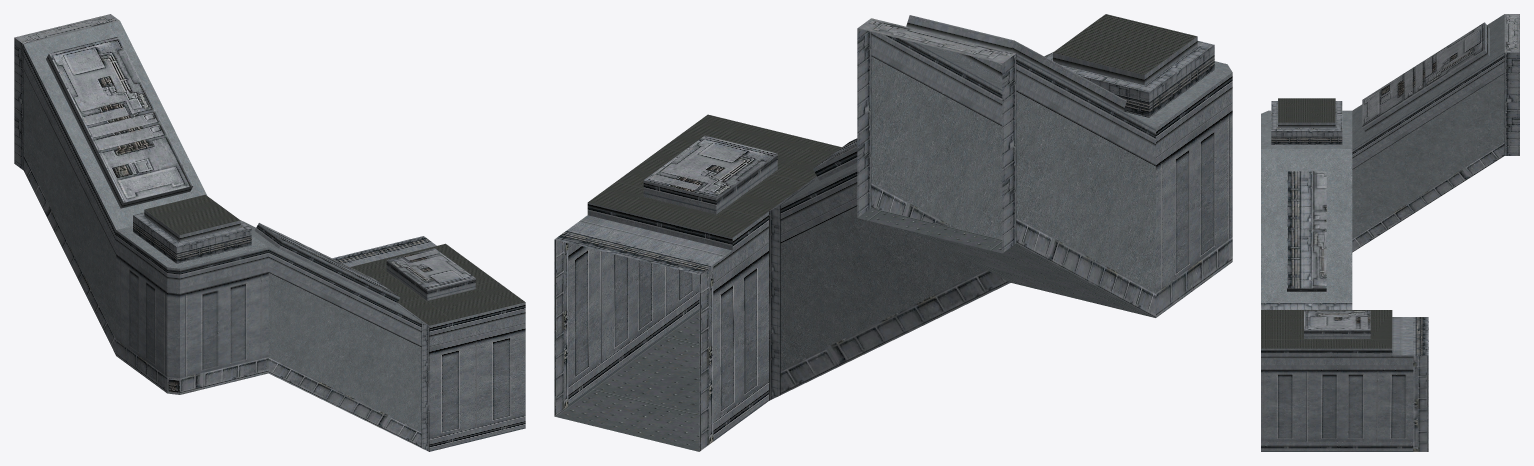
Rendered from poi_all_impl_bunker_s03_r4_ramp1_mesh_r4.fbx.
The picture shows the model from 3 angles, left to right: view 1: azimuth 30°, elevation 25°; view 2: azimuth 150°, elevation 25°; view 3: azimuth 270°, elevation 25°; orthographic projection. The views are drawn at different scales.
Parts seen in each view (by area): view 1: mesh_node; view 2: mesh_node; view 3: mesh_node.
Boxes of the visible parts, bbox=[...] form: mesh_node: bbox=[14, 14, 525, 451]; mesh_node: bbox=[554, 14, 1232, 451]; mesh_node: bbox=[1261, 14, 1519, 451].
Size of the model in its own units: 11 by 10.75 by 8.5.
